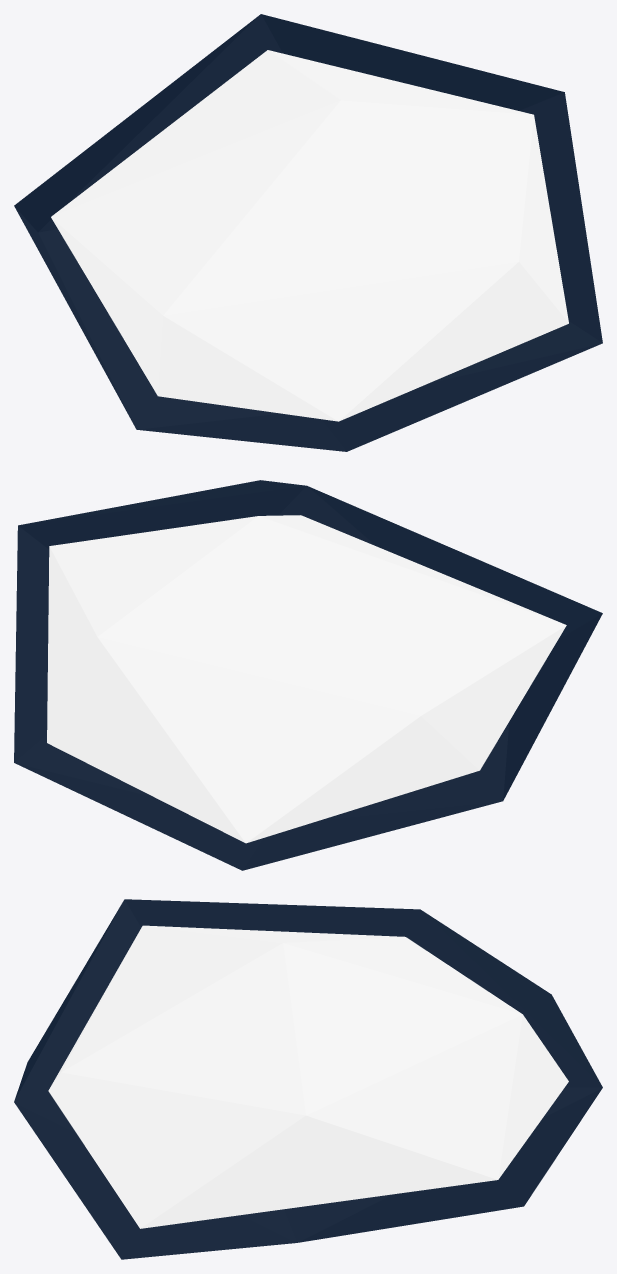
The model's file is stone_s.glb.
The picture shows the model from 3 angles, top to bottom: view 1: azimuth 30°, elevation 25°; view 2: azimuth 150°, elevation 25°; view 3: azimuth 270°, elevation 25°; orthographic projection. The views are drawn at different scales.
Parts seen in each view (by area): view 1: Body, Outline; view 2: Body, Outline; view 3: Body, Outline.
Boxes of the visible parts, <box> form: Body: <box>51,50,568,421</box>; Outline: <box>14,14,602,451</box>; Body: <box>47,515,566,843</box>; Outline: <box>14,480,602,870</box>; Body: <box>48,925,568,1228</box>; Outline: <box>14,899,602,1259</box>.
Size of the model in its own units: 4.57 by 2.95 by 4.55.
